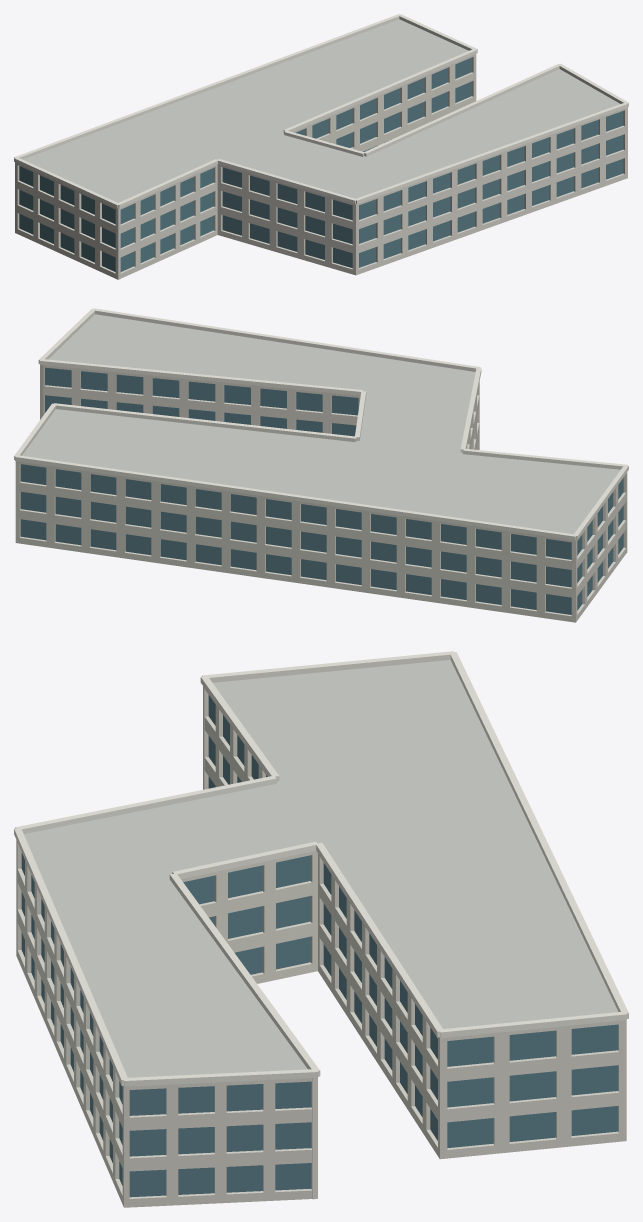
File: sb_1556514398.far.glb
The picture shows the model from 3 angles, top to bottom: view 1: azimuth 30°, elevation 25°; view 2: azimuth 150°, elevation 25°; view 3: azimuth 270°, elevation 25°; orthographic projection. The views are drawn at different scales.
Visible parts, largest first — view 1: roof, wall, glass, trim; view 2: roof, wall, glass, trim; view 3: roof, wall, glass, trim.
Boxes of the visible parts, x1,y1,x2,y2 form: roof: (23,19,620,202); wall: (15,54,627,279); glass: (19,57,623,271); trim: (14,14,628,208); roof: (22,314,620,534); wall: (15,365,627,622); glass: (20,367,623,614); trim: (14,308,628,540); roof: (24,660,618,1077); wall: (16,686,626,1207); glass: (21,695,618,1197); trim: (14,651,628,1086).
Bounding box in the file's own units: 70.26 × 9.74 × 42.48.
